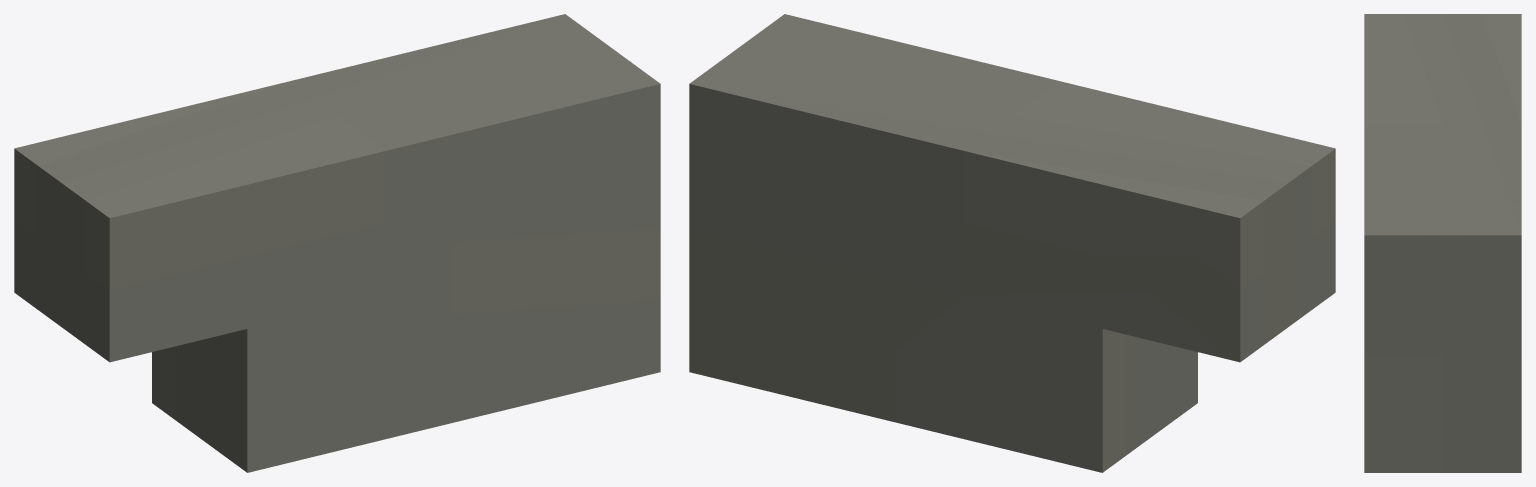
The model's file is ex_brmiddle.obj.
The picture shows the model from 3 angles, left to right: view 1: azimuth 30°, elevation 25°; view 2: azimuth 150°, elevation 25°; view 3: azimuth 270°, elevation 25°; orthographic projection. The views are drawn at different scales.
Parts seen in each view (by area): view 1: bridge_noside_1.2; view 2: bridge_noside_1.2; view 3: bridge_noside_1.2.
Boxes of the visible parts, x1,y1,x2,y2 form: bridge_noside_1.2: (14,14,660,472); bridge_noside_1.2: (689,14,1335,472); bridge_noside_1.2: (1364,14,1521,472).
Bounding box in the file's own units: 2 × 1 × 0.6.
Materials: 1 (1 with a texture image).
